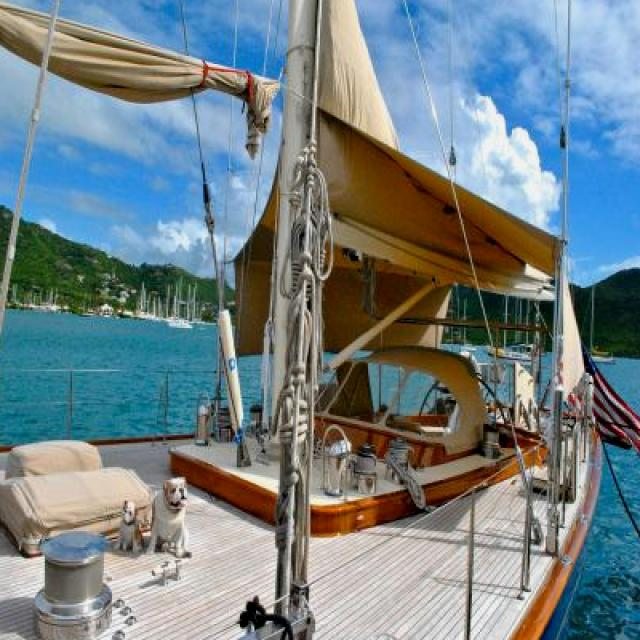ship: (0, 0, 605, 637), (580, 282, 617, 362), (168, 275, 194, 328)
